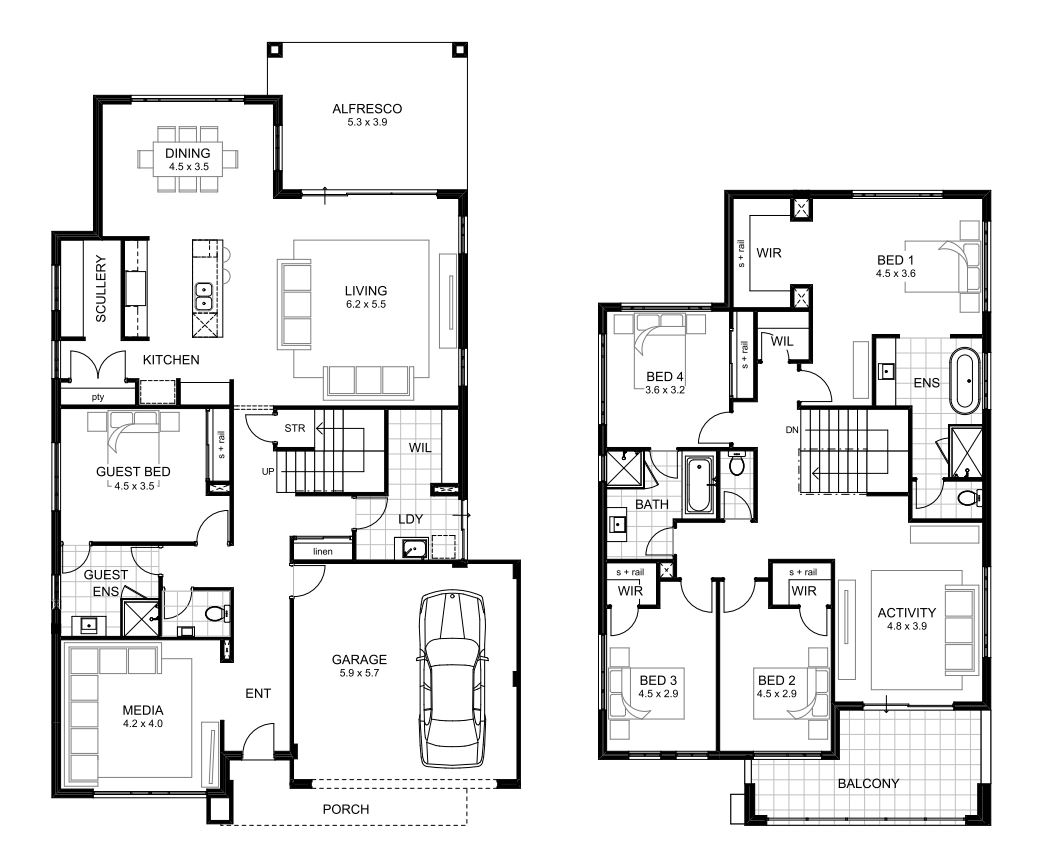door: (69, 345, 132, 378), (689, 406, 733, 445), (291, 565, 333, 604), (799, 364, 838, 401), (190, 504, 228, 541), (237, 720, 281, 751), (794, 609, 829, 644), (680, 587, 715, 616), (243, 412, 275, 442), (608, 608, 637, 639), (723, 589, 753, 617)
window: (134, 94, 242, 106), (589, 636, 608, 703), (616, 303, 719, 314), (595, 335, 608, 418), (854, 192, 942, 203), (453, 216, 475, 254), (984, 567, 993, 655), (982, 226, 989, 314), (455, 348, 472, 383), (50, 446, 59, 507), (981, 357, 991, 405), (50, 267, 63, 302), (598, 457, 607, 475)
